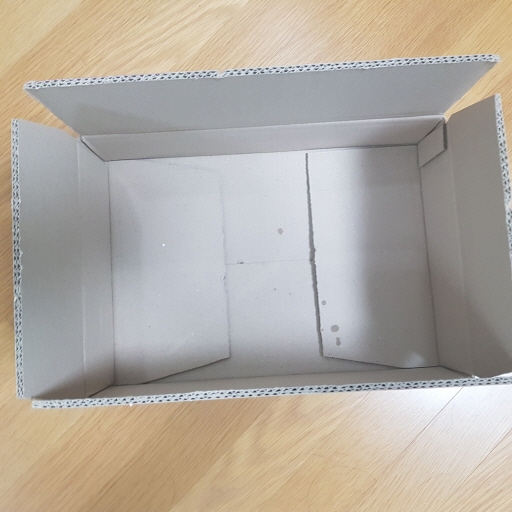Paper_0: (4, 53, 512, 411)
